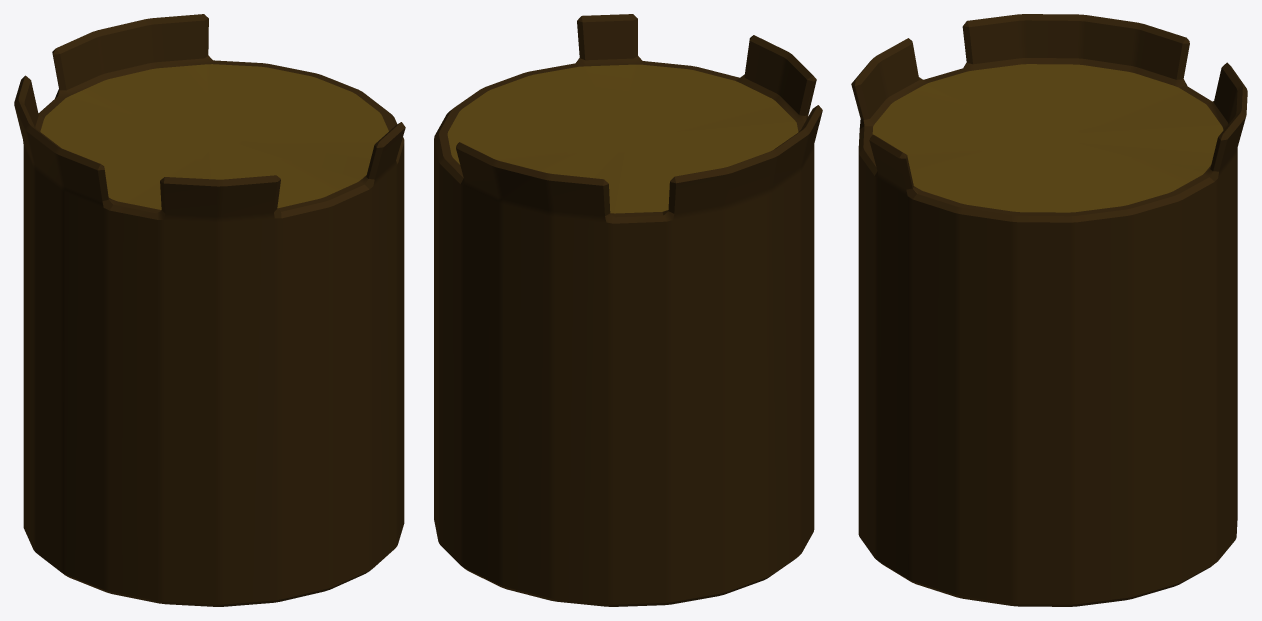
File: Wood3.obj
The picture shows the model from 3 angles, left to right: view 1: azimuth 30°, elevation 25°; view 2: azimuth 150°, elevation 25°; view 3: azimuth 270°, elevation 25°; orthographic projection.
Visible parts, largest first — view 1: Wood3; view 2: Wood3; view 3: Wood3.
Part boxes in pixels (box(x1,y1,x2,y2)): Wood3: box(14, 14, 405, 606); Wood3: box(434, 14, 822, 606); Wood3: box(851, 14, 1247, 606).
Bounding box in the file's own units: 2.43 × 2.99 × 2.48.
